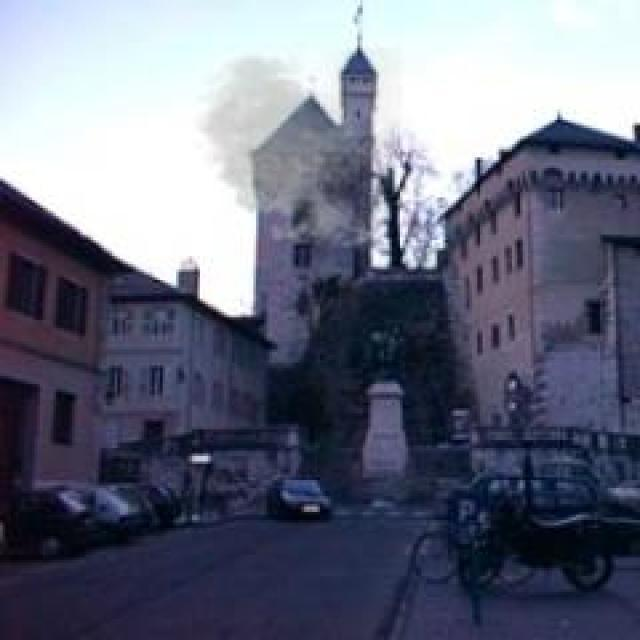smoke: (188, 49, 404, 255)
